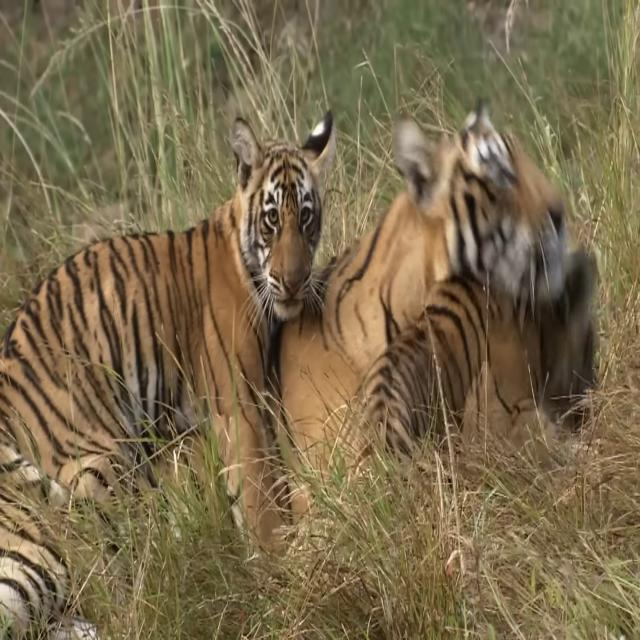tiger: (0, 105, 331, 636)
